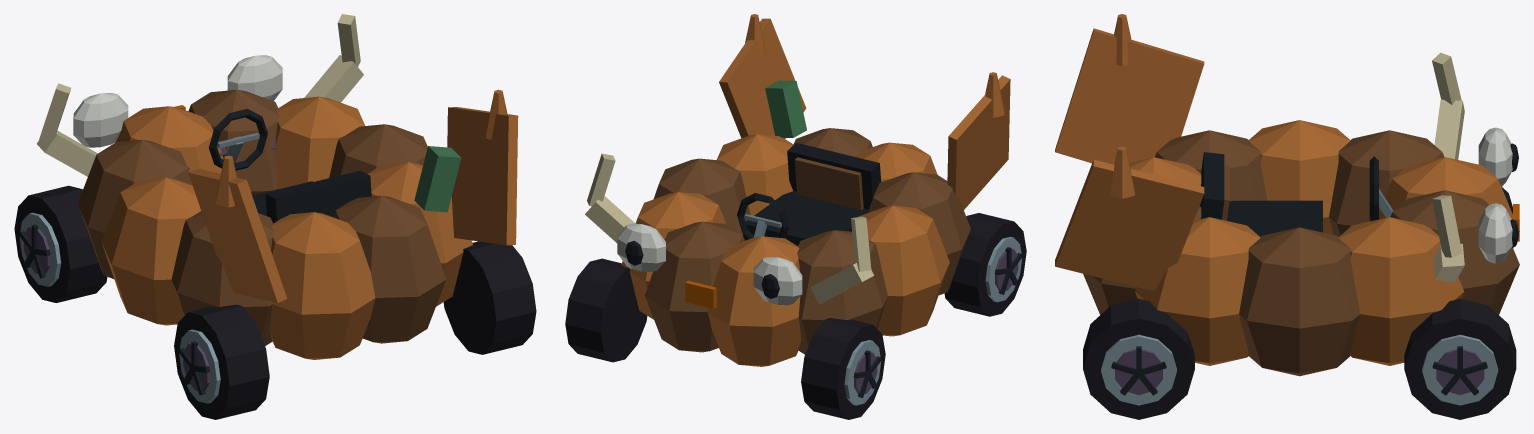
The model's file is kart.glb.
3 renders of one model, left to right at view 1: azimuth 30°, elevation 25°; view 2: azimuth 150°, elevation 25°; view 3: azimuth 270°, elevation 25°, orthographic. The views are drawn at different scales.
Parts seen in each view (by area): view 1: identity-pumpkin-pumpkin-lobed-carriage, identity-pumpkin-motif-bat-fins, wheel-rear-left, wheel-rear-right, wheel-front-left, identity-pumpkin-driver-cockpit, identity-pumpkin-motif-horns, identity-pumpkin-motif-eyes; view 2: identity-pumpkin-pumpkin-lobed-carriage, identity-pumpkin-motif-bat-fins, identity-pumpkin-driver-cockpit, wheel-front-left, wheel-front-right, wheel-rear-left, identity-pumpkin-motif-eyes, identity-pumpkin-motif-horns; view 3: identity-pumpkin-pumpkin-lobed-carriage, identity-pumpkin-motif-bat-fins, wheel-front-right, wheel-rear-right, identity-pumpkin-driver-cockpit, identity-pumpkin-motif-horns, identity-pumpkin-motif-eyes.
Boxes of the visible parts, left/top/right/bottom form: identity-pumpkin-pumpkin-lobed-carriage: left=78, top=89, right=472, bottom=359; identity-pumpkin-motif-bat-fins: left=188, top=89, right=518, bottom=302; wheel-rear-left: left=174, top=304, right=269, bottom=419; wheel-rear-right: left=443, top=241, right=536, bottom=354; wheel-front-left: left=14, top=185, right=107, bottom=302; identity-pumpkin-driver-cockpit: left=208, top=109, right=371, bottom=223; identity-pumpkin-motif-horns: left=37, top=14, right=363, bottom=176; identity-pumpkin-motif-eyes: left=73, top=55, right=282, bottom=147; identity-pumpkin-pumpkin-lobed-carriage: left=621, top=80, right=970, bottom=366; identity-pumpkin-motif-bat-fins: left=719, top=14, right=1010, bottom=209; identity-pumpkin-driver-cockpit: left=737, top=142, right=881, bottom=246; wheel-front-left: left=801, top=318, right=885, bottom=419; wheel-front-right: left=565, top=258, right=647, bottom=362; wheel-rear-left: left=944, top=213, right=1026, bottom=316; identity-pumpkin-motif-eyes: left=617, top=223, right=802, bottom=305; identity-pumpkin-motif-horns: left=585, top=153, right=874, bottom=304; identity-pumpkin-pumpkin-lobed-carriage: left=1083, top=120, right=1519, bottom=376; identity-pumpkin-motif-bat-fins: left=1055, top=14, right=1204, bottom=291; wheel-front-right: left=1404, top=298, right=1516, bottom=419; wheel-rear-right: left=1083, top=299, right=1194, bottom=419; identity-pumpkin-driver-cockpit: left=1199, top=152, right=1393, bottom=236; identity-pumpkin-motif-horns: left=1432, top=52, right=1464, bottom=282; identity-pumpkin-motif-eyes: left=1478, top=127, right=1518, bottom=263.
Size of the model in its own units: 2.04 by 1.55 by 2.49.
